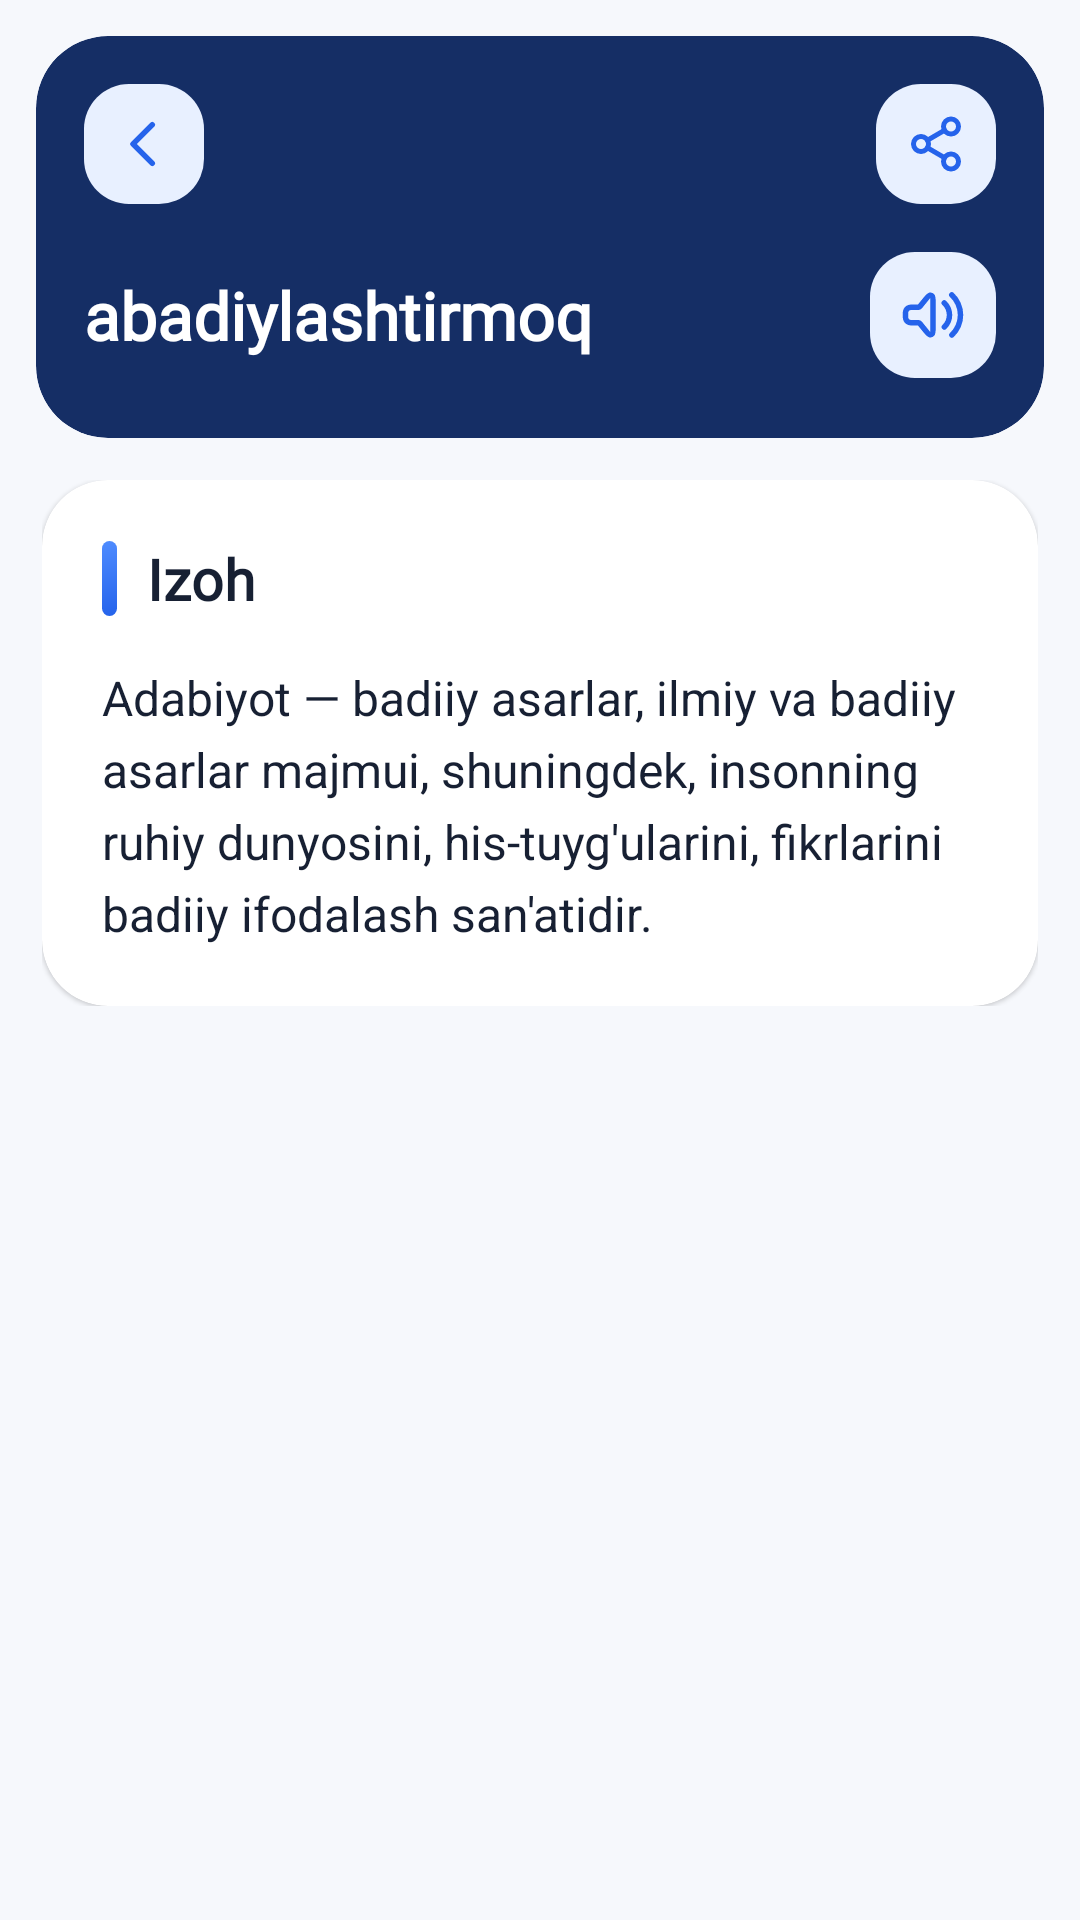

Icon bounding boxes for this 1080 × 1920 phone screenshot, format (x1, y1, x2, y2):
speaker: (870, 252, 996, 378)
Ulashish: (876, 84, 996, 204)
